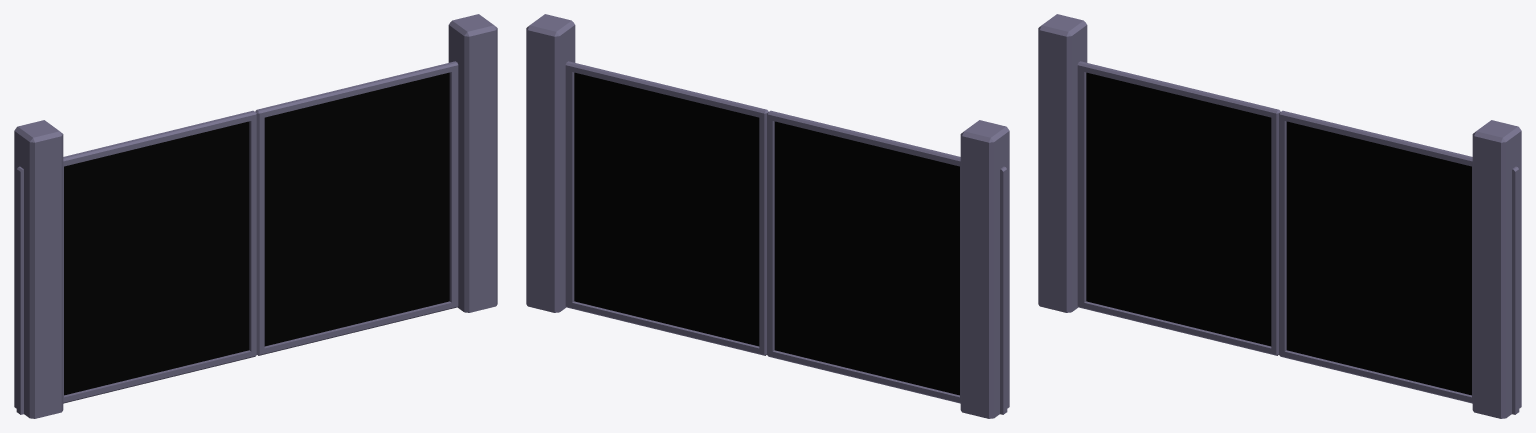
File: portal grillage.fbx
The picture shows the model from 3 angles, left to right: view 1: azimuth 30°, elevation 25°; view 2: azimuth 150°, elevation 25°; view 3: azimuth 330°, elevation 25°; orthographic projection.
Parts seen in each view (by area): view 1: Grillage.001, Grillage, Right Portal.001, Right Portal; view 2: Grillage.001, Grillage, Right Portal.001, Right Portal; view 3: Grillage, Grillage.001, Right Portal, Right Portal.001.
Boxes of the visible parts, x1,y1,x2,y2 form: Grillage.001: [64, 121, 249, 395]; Grillage: [264, 72, 449, 346]; Right Portal.001: [14, 110, 256, 418]; Right Portal: [255, 14, 497, 355]; Grillage.001: [774, 121, 959, 395]; Grillage: [574, 72, 759, 346]; Right Portal.001: [767, 110, 1009, 418]; Right Portal: [526, 14, 768, 355]; Grillage: [1286, 121, 1471, 395]; Grillage.001: [1086, 72, 1271, 346]; Right Portal: [1279, 110, 1521, 418]; Right Portal.001: [1038, 14, 1280, 355].
Size of the model in its own units: 1 by 14.2 by 8.
2 materials, 1 textured.
